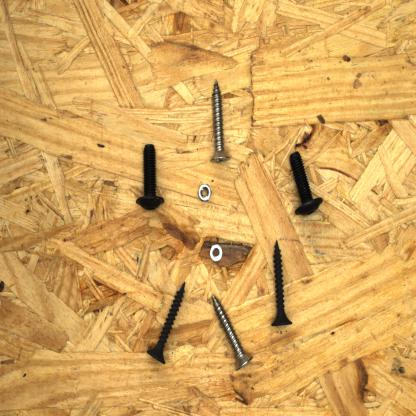screw: (209, 290, 258, 374), (145, 278, 190, 368), (286, 149, 330, 219), (266, 235, 296, 329), (132, 140, 168, 214), (207, 76, 235, 166)
